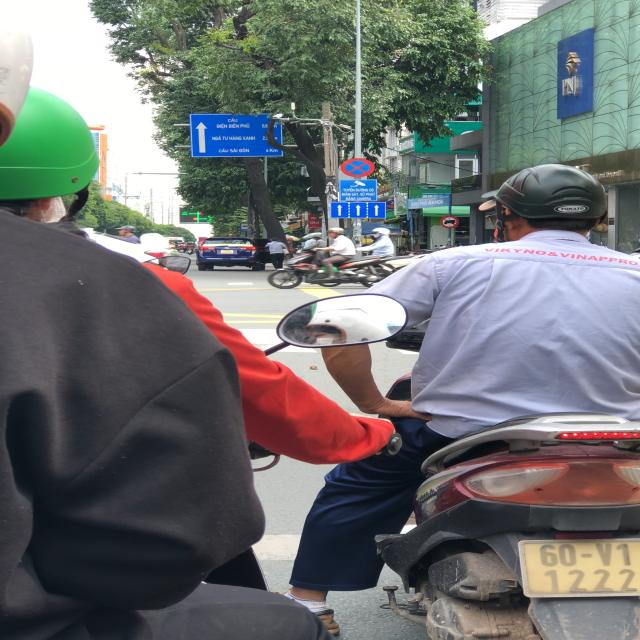Bien bao cam dung xe va do xe: (337, 156, 380, 178)
